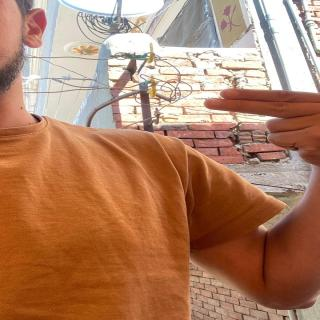AYN: (191, 66, 320, 165)
